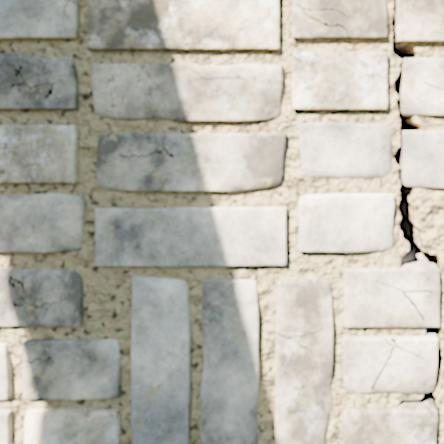brick: (95, 207, 286, 265), (97, 133, 285, 190), (92, 64, 282, 120), (131, 277, 189, 443), (88, 0, 279, 49), (201, 279, 258, 443), (276, 279, 332, 443), (23, 339, 120, 399), (299, 194, 393, 251), (345, 269, 438, 326), (293, 52, 387, 108), (343, 337, 436, 392), (299, 124, 391, 177), (0, 194, 83, 251), (0, 269, 82, 325), (0, 126, 76, 182), (0, 53, 77, 108), (292, 0, 386, 37), (342, 408, 436, 443), (25, 409, 119, 443), (0, 0, 77, 38), (403, 58, 443, 115), (404, 131, 443, 187), (398, 0, 443, 41), (0, 343, 11, 399), (0, 410, 11, 443)
crack: (391, 0, 443, 443), (371, 337, 425, 391), (294, 2, 351, 29), (276, 328, 326, 352), (23, 355, 54, 363), (422, 81, 443, 91)
